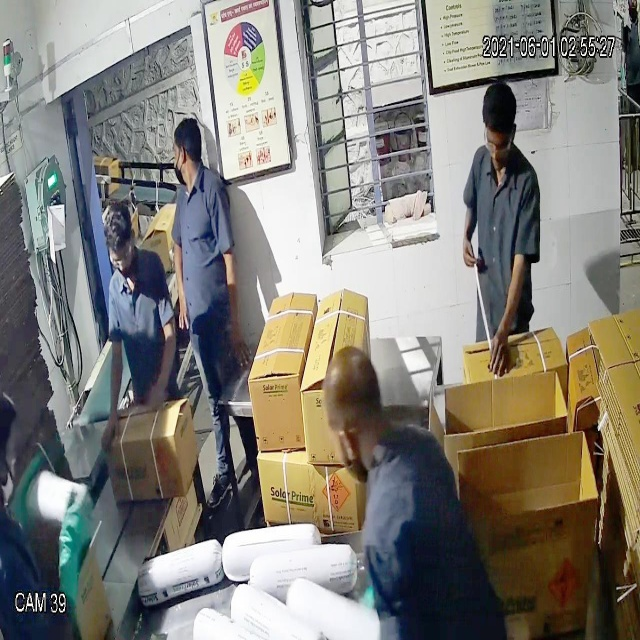Gafas: (472, 122, 517, 164), (99, 236, 142, 276)
